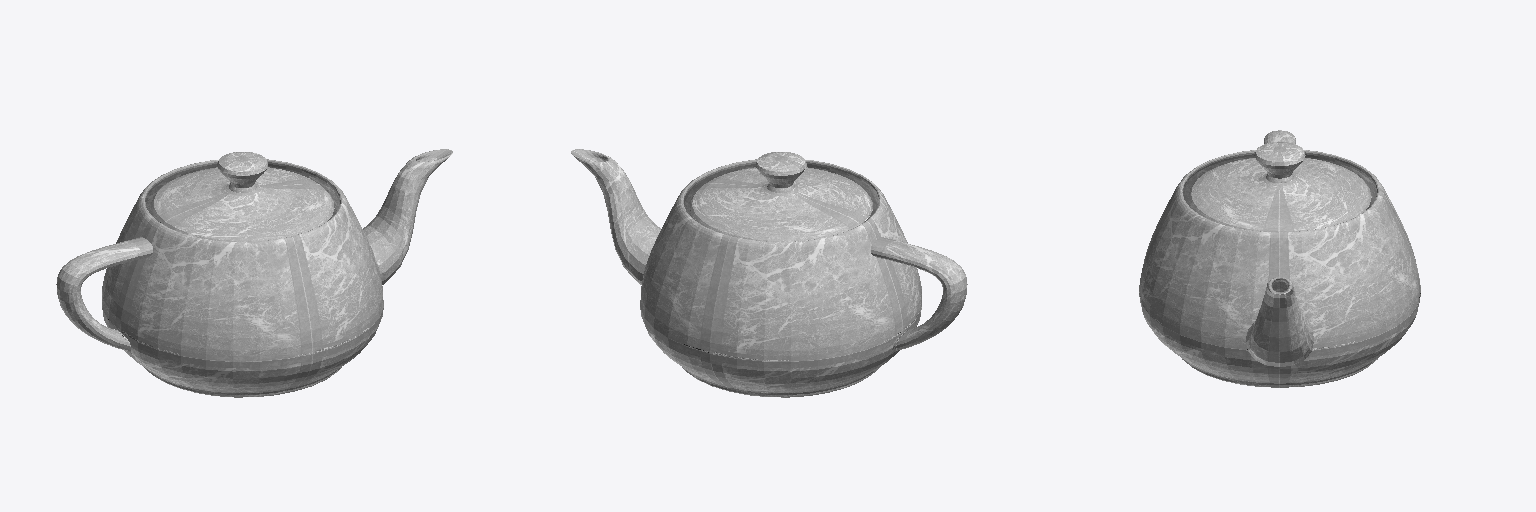
3 views of the same model, side by side, from view 1: azimuth 30°, elevation 25°; view 2: azimuth 150°, elevation 25°; view 3: azimuth 270°, elevation 25° (orthographic).
Visible parts, largest first — view 1: Teapot001; view 2: Teapot001; view 3: Teapot001.
Boxes of the visible parts, <box> form: Teapot001: <box>56,149,452,397</box>; Teapot001: <box>571,149,967,397</box>; Teapot001: <box>1139,130,1420,387</box>.
Size of the model in its own units: 82.07 by 40.18 by 51.03.
1 materials, 1 textured.